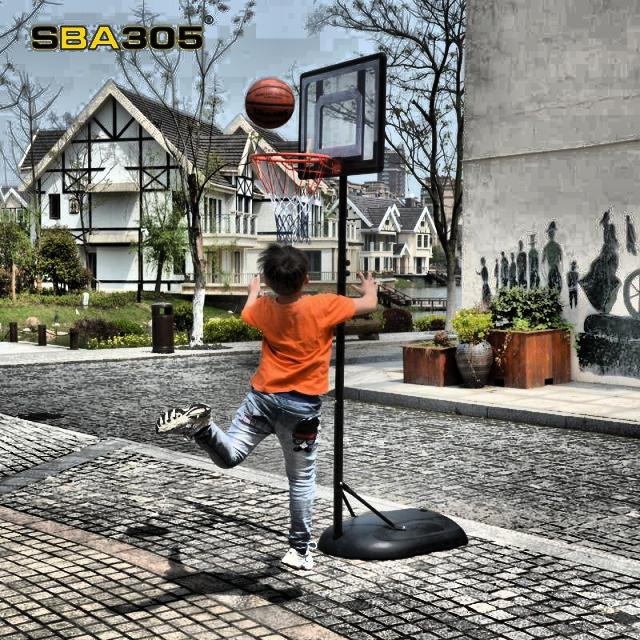board: (247, 77, 296, 128)
rim: (249, 153, 326, 244)
